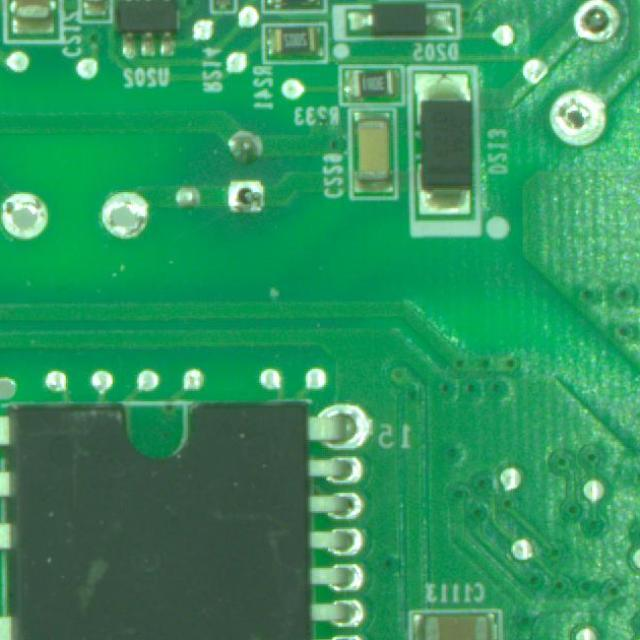Insufficient solder: (544, 79, 610, 160), (100, 187, 152, 245), (570, 0, 632, 46), (0, 189, 53, 240), (220, 174, 272, 214)
